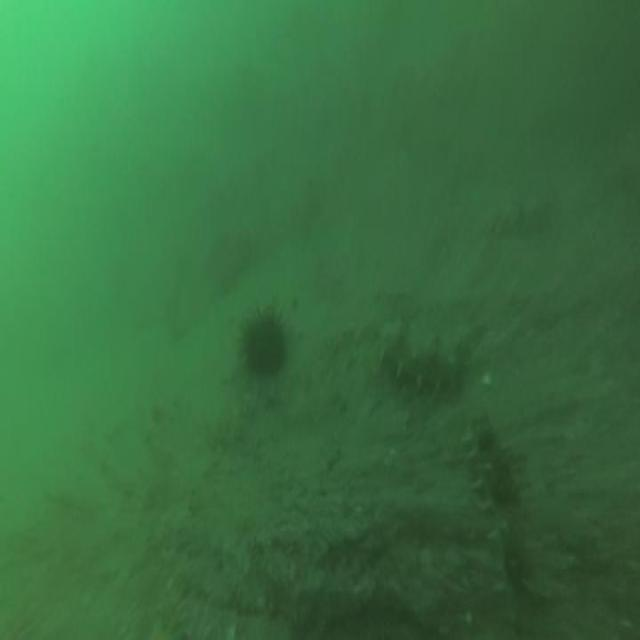echinus: (242, 312, 284, 374)
holothurian: (459, 411, 527, 627), (377, 321, 460, 396)
